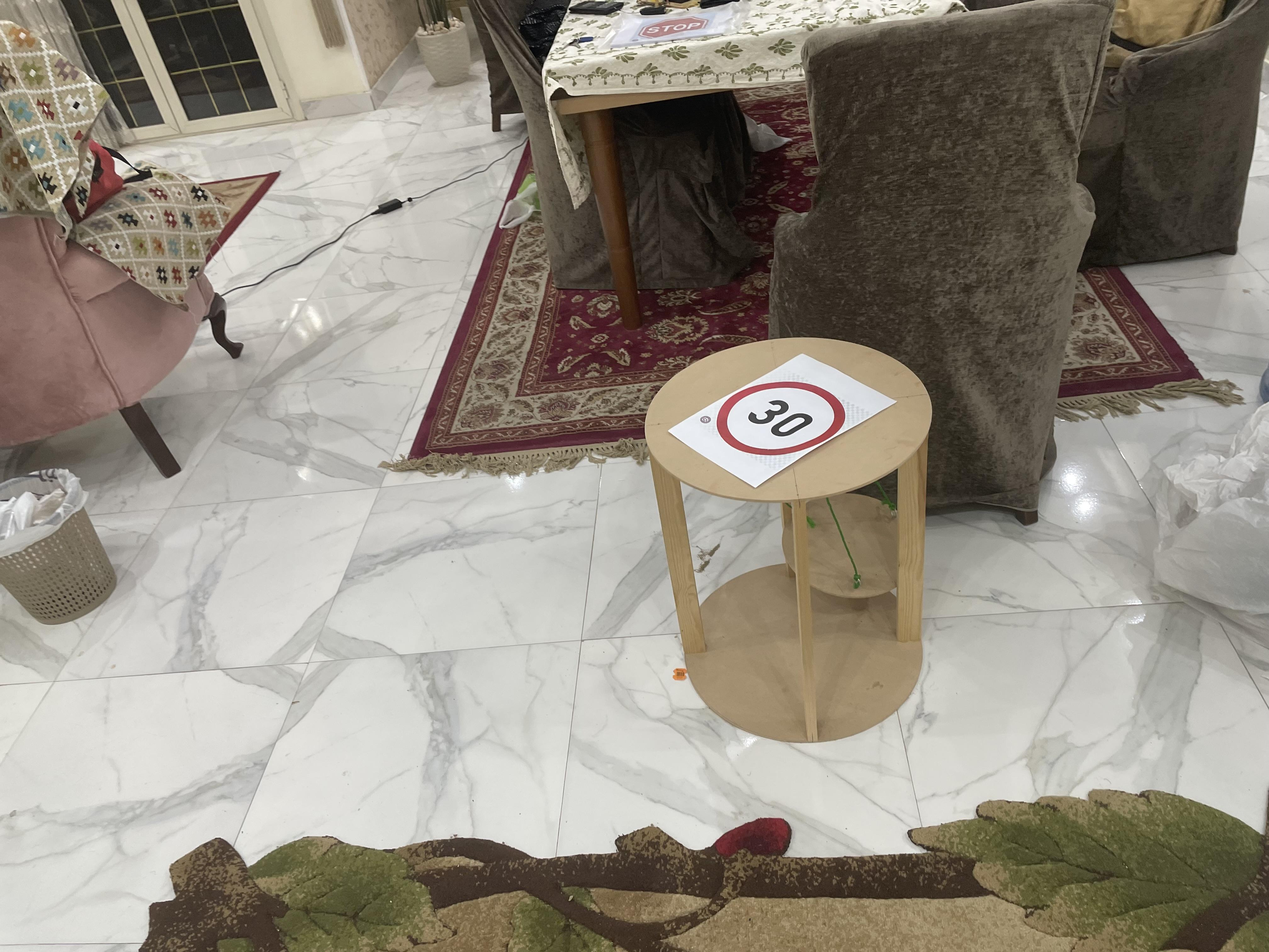30-speed: (715, 375, 844, 454)
